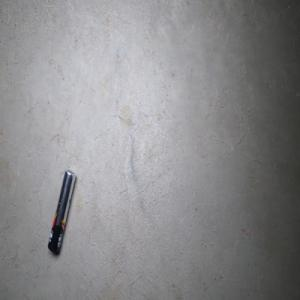Battery: (47, 169, 76, 254)
